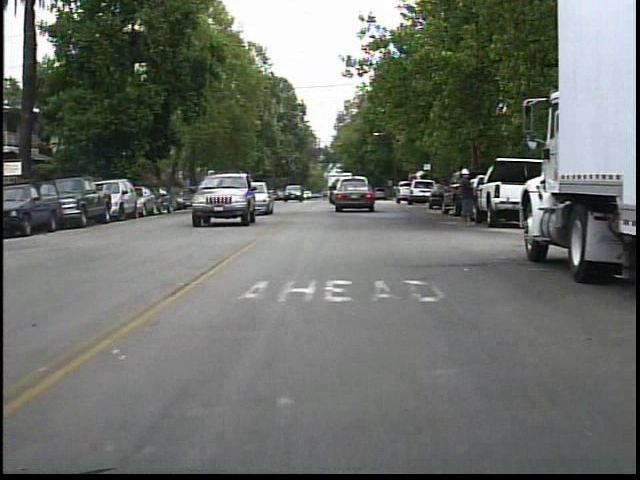person: (453, 165, 482, 229)
